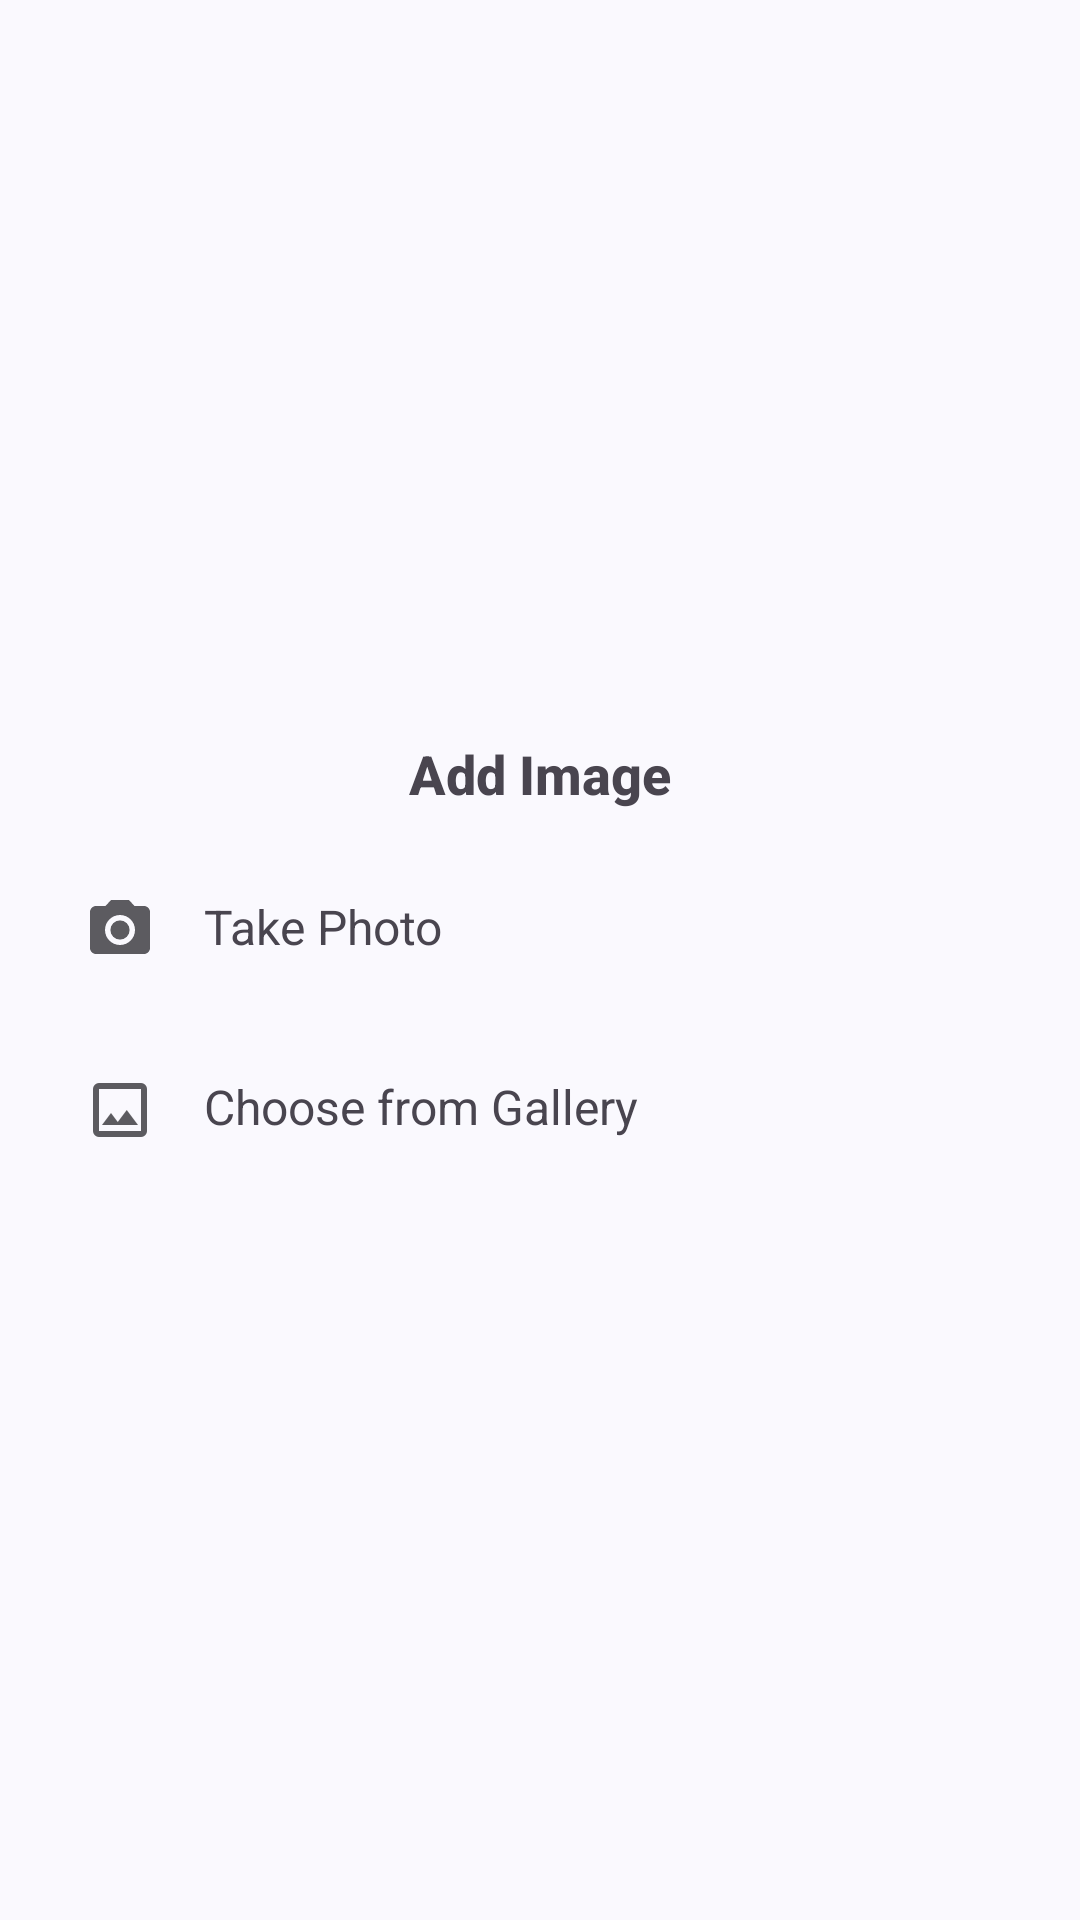

Named icons in this screenshot (1080w x 1920h) and their bounding boxes, (x1,y1,x2,y2):
camera: (90,900,150,954)
